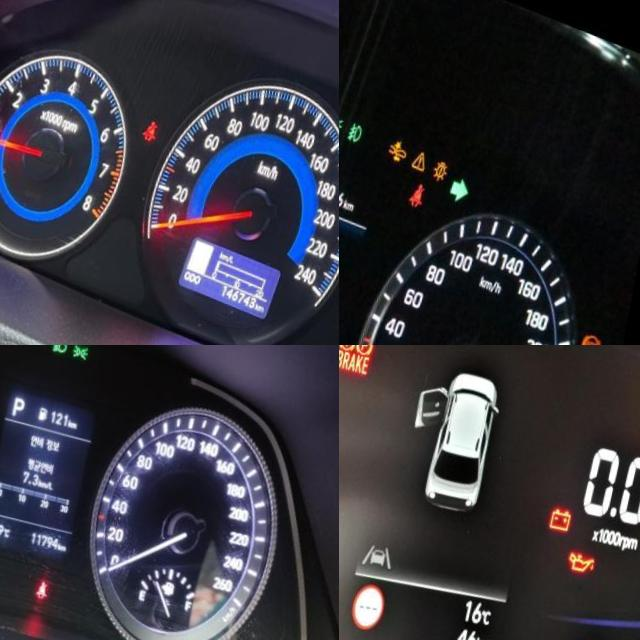Central Warning lamp: (418, 128, 437, 152)
FrontFogLight: (353, 103, 371, 128)
SideLamp: (339, 94, 352, 118)
